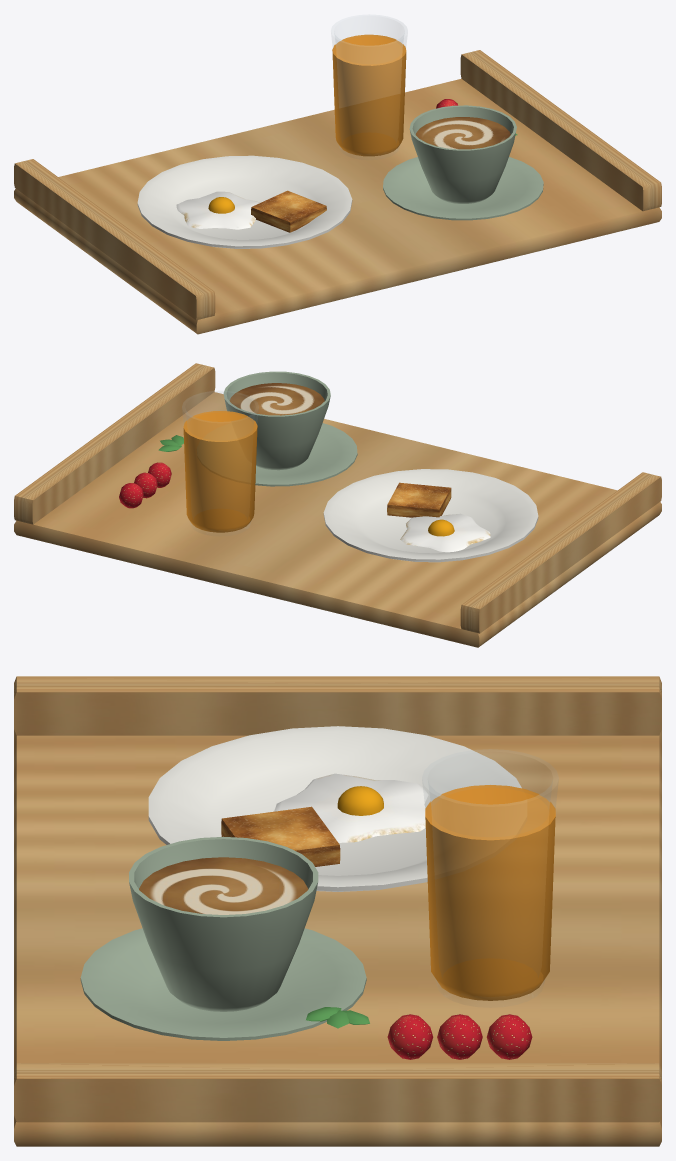
The model's file is tray_breakfast_tray_wood.glb.
3 renders of one model, top to bottom at view 1: azimuth 30°, elevation 25°; view 2: azimuth 150°, elevation 25°; view 3: azimuth 270°, elevation 25°, orthographic. The views are drawn at different scales.
Visible parts, largest first — view 1: tray_breakfast_tray_wood; view 2: tray_breakfast_tray_wood; view 3: tray_breakfast_tray_wood.
Part boxes in pixels (left/top/right/bottom): tray_breakfast_tray_wood: left=14, top=15, right=661, bottom=334; tray_breakfast_tray_wood: left=14, top=363, right=661, bottom=647; tray_breakfast_tray_wood: left=14, top=676, right=661, bottom=1146.
Bounding box in the file's own units: 0.5 × 0.135 × 0.34.
11 materials, 6 textured.
